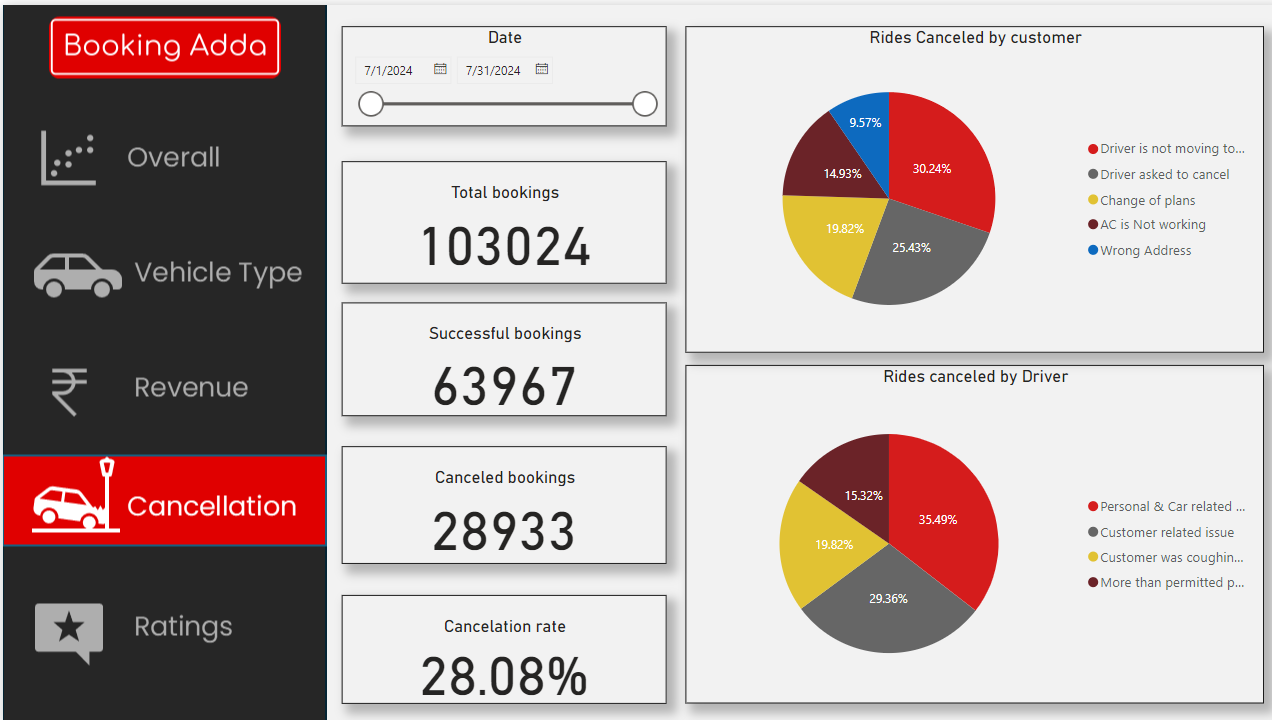

The dashboard page shown, as its layout file describes it:
{"tool":"powerbi","page":{"name":"Cancellation","canvas":[1280,720],"ordinal":3},"visuals":[{"type":"actionButton","box":[0,223.2,322.1,90.5],"z":0},{"type":"actionButton","box":[1.2,337.8,322.1,90.5],"z":1000},{"type":"actionButton","box":[2.4,576.7,322.1,90.5],"z":2000},{"type":"actionButton","box":[1.2,111,322.1,90.5],"z":3000},{"type":"pieChart","title":"Rides Canceled by customer","fields":{"Category":["Table1.Canceled_Rides_by_Customer"],"Y":["CountNonNull(Table1.Canceled_Rides_by_Customer)"]},"box":[682.5,21.2,578.8,326.2],"z":4000},{"type":"pieChart","title":"Rides canceled by Driver","fields":{"Category":["Table1.Canceled_Rides_by_Driver"],"Y":["CountNonNull(Table1.Canceled_Rides_by_Driver)"]},"box":[682.5,360,578.8,338.8],"z":5000},{"type":"slicer","title":"Date","fields":{"Values":["Table1.Date"]},"box":[338.8,21.2,325,100],"z":6000},{"type":"card","title":"Total bookings","fields":{"Values":["CountNonNull(Table1.Booking_ID)"]},"box":[338.8,156.2,325,122.5],"z":7000},{"type":"card","title":"Successful bookings","fields":{"Values":["CountNonNull(Table1.Booking_ID)"]},"box":[338.8,297.5,325,113.8],"z":8000},{"type":"card","title":"Canceled bookings","fields":{"Values":["CountNonNull(Table1.Booking_ID)"]},"box":[338.8,441.2,325,117.5],"z":9000},{"type":"card","title":"Cancelation rate","fields":{"Values":["Table1.Cancelation rate"]},"box":[338.8,590,325,108.8],"z":10000}]}

Visuals, with their boxes in screenshot pixels (x1, y1, x2, y2), scaled from the page's 1280x720 canvas onto the 1272x720 screenshot:
actionButton: <box>0,223,320,314</box>
actionButton: <box>1,338,321,428</box>
actionButton: <box>2,577,322,667</box>
actionButton: <box>1,111,321,202</box>
"Rides Canceled by customer" pieChart: <box>678,21,1253,347</box>
"Rides canceled by Driver" pieChart: <box>678,360,1253,699</box>
"Date" slicer: <box>337,21,660,121</box>
"Total bookings" card: <box>337,156,660,279</box>
"Successful bookings" card: <box>337,298,660,411</box>
"Canceled bookings" card: <box>337,441,660,559</box>
"Cancelation rate" card: <box>337,590,660,699</box>
